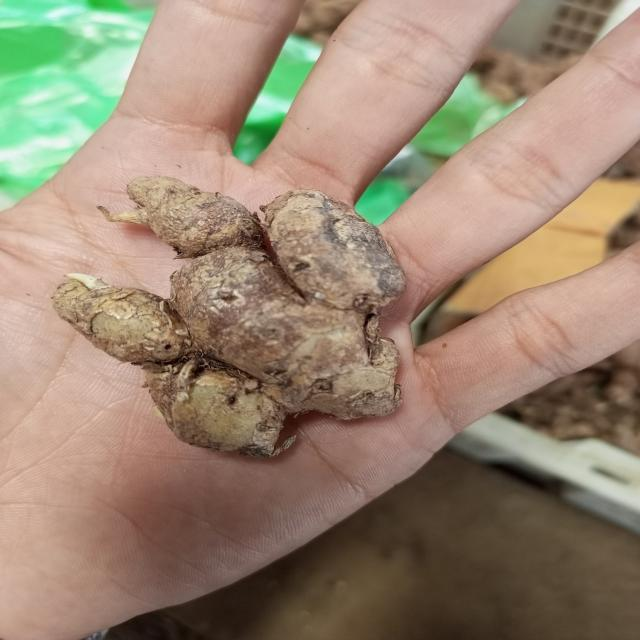ginger: (64, 178, 404, 446)
